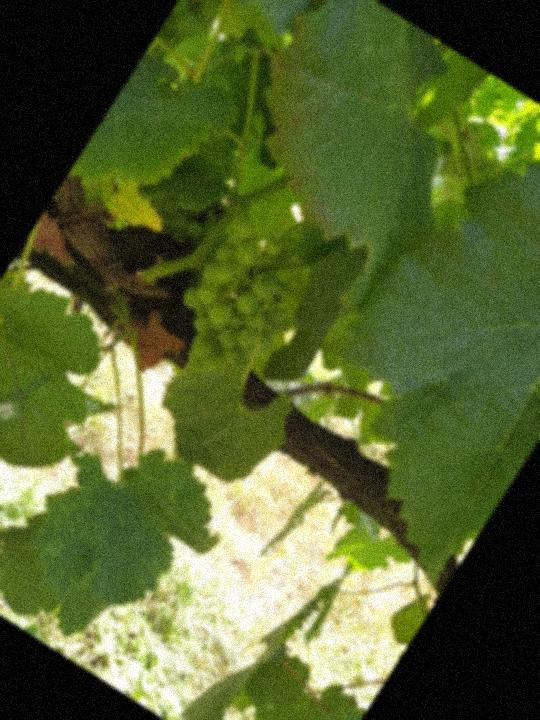grape: (148, 208, 333, 410)
